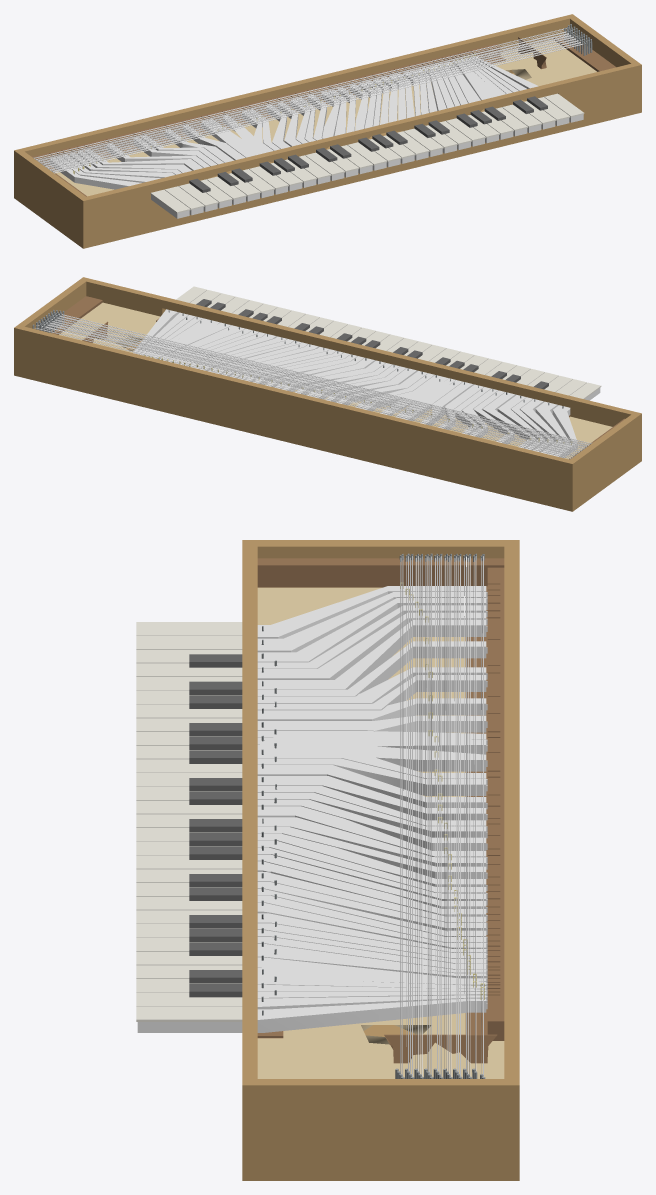
Rendered from clavichord.glb.
3 views of the same model, one above another, from view 1: azimuth 30°, elevation 25°; view 2: azimuth 150°, elevation 25°; view 3: azimuth 270°, elevation 25° (orthographic). The views are drawn at different scales.
Size of the model in its own units: 1005 by 82.02 by 299.
